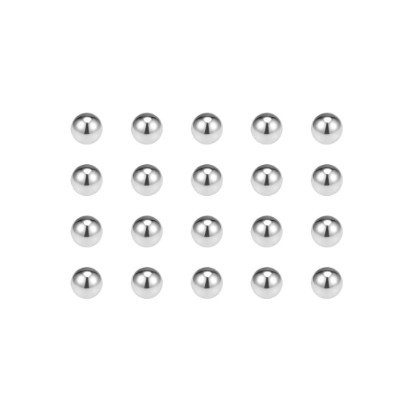ironball: (249, 111, 282, 144), (70, 111, 102, 144), (310, 111, 342, 144), (190, 111, 222, 144), (130, 111, 162, 144), (70, 214, 102, 247), (310, 214, 342, 247), (190, 214, 222, 247), (250, 214, 282, 247), (130, 214, 162, 247), (249, 163, 282, 195), (310, 266, 342, 298), (70, 266, 102, 298), (250, 266, 282, 298), (190, 266, 222, 298), (130, 266, 162, 298), (70, 163, 102, 195), (310, 163, 342, 195), (130, 163, 162, 195), (190, 163, 222, 195)
